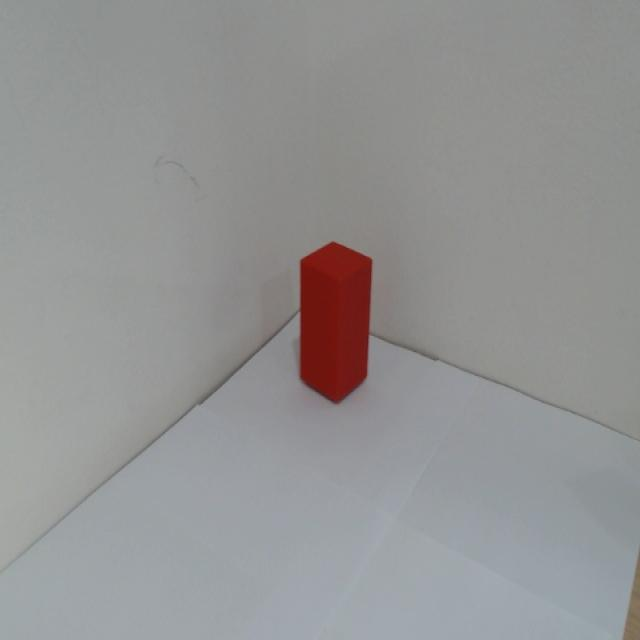cube: (295, 238, 374, 408)
